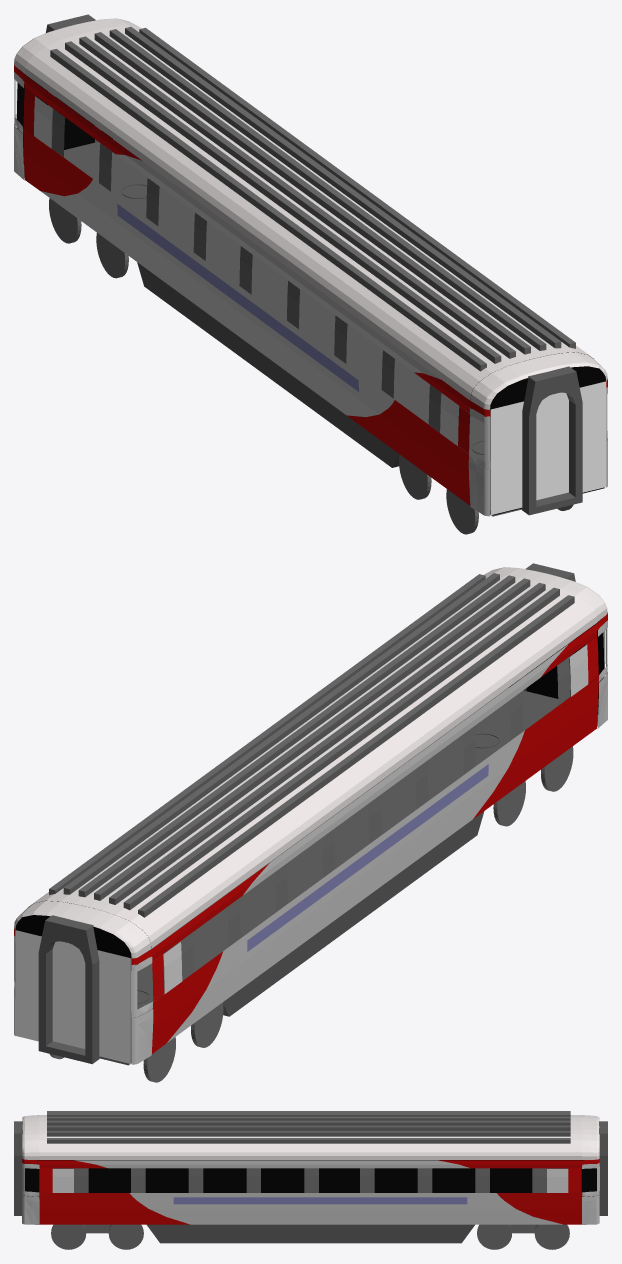
The model's file is br-mk3-fo-vtec.dae.
3 renders of one model, top to bottom at view 1: azimuth 30°, elevation 25°; view 2: azimuth 150°, elevation 25°; view 3: azimuth 270°, elevation 25°, orthographic. The views are drawn at different scales.
Visible parts, largest first — view 1: Suzanne_001, Plane_035, Plane_002, Plane_100, Cube_003, Cube_002, Cube_008, Cube_004, Cube_009, Cube_010, Cube, Tube_002 (+15 smaller); view 2: Suzanne_001, Plane_035, Plane_002, Plane_001, Cube_003, Cube_002, Cube_008, Cube_004, Cube_009, Cube_010, Tube_003, Cube (+15 smaller); view 3: Plane_007, Suzanne_001, Plane_111, Cube, Cube_008, Cube_009, Cube_010, Cube_011, Plane_006, Plane_004, Cube_004, Plane_039 (+29 smaller).
Part boxes in pixels (left/top/right/bottom): Suzanne_001: left=25, top=26, right=593, bottom=400; Plane_035: left=23, top=141, right=470, bottom=505; Plane_002: left=24, top=139, right=490, bottom=510; Plane_100: left=491, top=381, right=606, bottom=514; Cube_003: left=50, top=49, right=486, bottom=371; Cube_002: left=65, top=41, right=501, bottom=363; Cube_008: left=94, top=32, right=530, bottom=354; Cube_004: left=79, top=36, right=515, bottom=358; Cube_009: left=109, top=29, right=546, bottom=350; Cube_010: left=125, top=26, right=561, bottom=348; Cube: left=137, top=262, right=399, bottom=467; Tube_002: left=521, top=366, right=582, bottom=515; Suzanne_001: left=29, top=574, right=596, bottom=948; Plane_035: left=152, top=689, right=598, bottom=1053; Plane_002: left=130, top=688, right=597, bottom=1059; Plane_001: left=15, top=930, right=130, bottom=1063; Cube_003: left=138, top=595, right=574, bottom=917; Cube_002: left=123, top=587, right=559, bottom=910; Cube_008: left=94, top=578, right=530, bottom=900; Cube_004: left=109, top=582, right=545, bottom=904; Cube_009: left=78, top=575, right=515, bottom=897; Cube_010: left=63, top=573, right=499, bottom=894; Tube_003: left=38, top=915, right=99, bottom=1064; Cube: left=223, top=811, right=484, bottom=1016; Plane_007: left=39, top=1201, right=581, bottom=1224; Suzanne_001: left=39, top=1115, right=581, bottom=1159; Plane_111: left=23, top=1160, right=598, bottom=1196; Cube: left=147, top=1224, right=474, bottom=1243; Cube_008: left=47, top=1120, right=570, bottom=1125; Cube_009: left=47, top=1125, right=570, bottom=1130; Cube_010: left=47, top=1131, right=570, bottom=1136; Cube_011: left=47, top=1138, right=570, bottom=1143; Plane_006: left=39, top=1160, right=583, bottom=1164; Plane_004: left=40, top=1164, right=582, bottom=1168; Cube_004: left=47, top=1116, right=570, bottom=1120; Plane_039: left=173, top=1197, right=467, bottom=1204.
Bounding box in the file's own units: 2.08 × 13.39 × 2.81.
